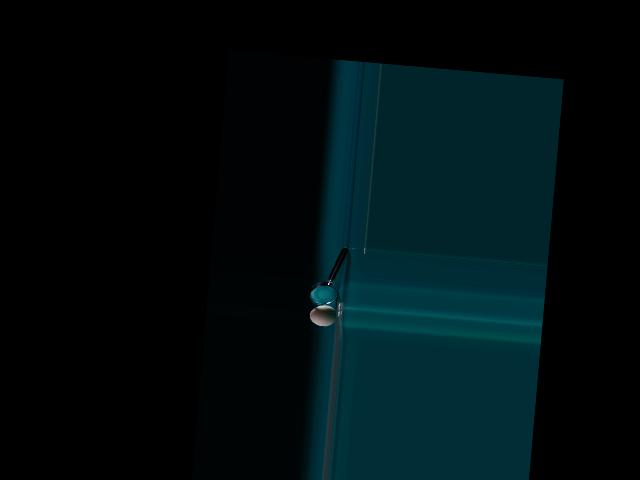egg: (308, 304, 337, 327)
